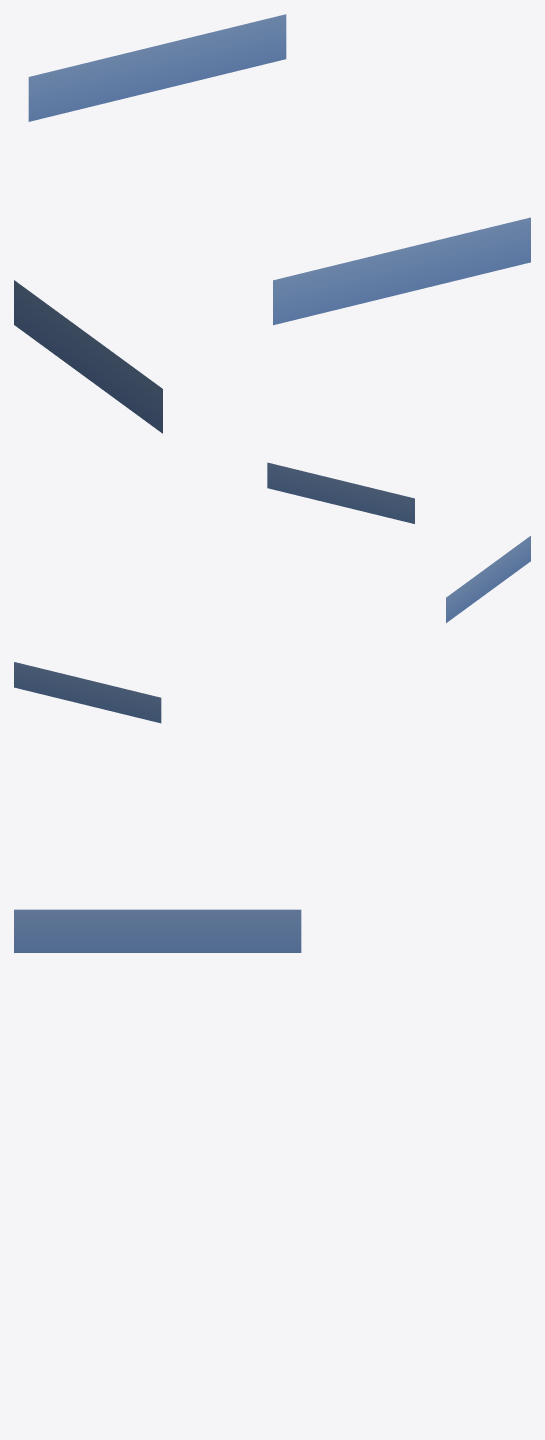
The model's file is 068_1_0_building-g_1.glb.
3 views of the same model, one above another, from view 1: azimuth 30°, elevation 25°; view 2: azimuth 150°, elevation 25°; view 3: azimuth 270°, elevation 25° (orthographic). The views are drawn at different scales.
Visible parts, largest first — view 1: 1_0_building-g_1; view 2: 1_0_building-g_1; view 3: 1_0_building-g_1.
Part boxes in pixels (x1,y1,x2,y2): 1_0_building-g_1: (14,14,530,433); 1_0_building-g_1: (14,462,530,723); 1_0_building-g_1: (14,909,301,952).
Size of the model in its own units: 1.48 by 0.9 by 1.08.
Materials: 1 (1 with a texture image).
